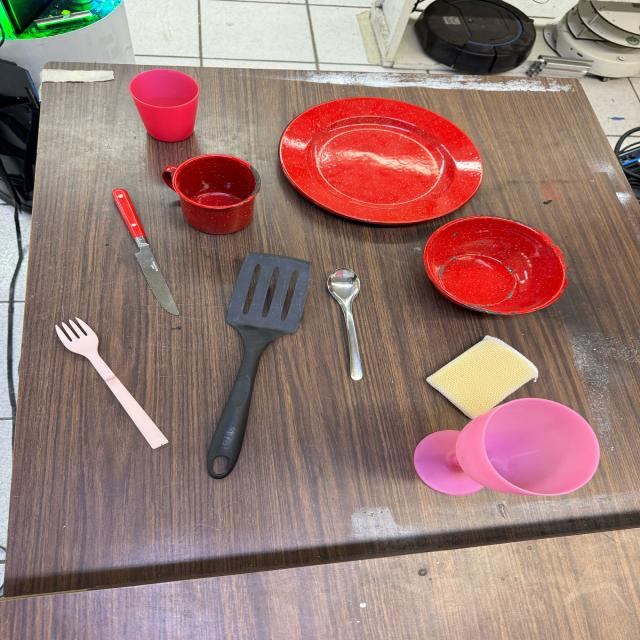cup: (162, 152, 260, 233)
fork: (52, 318, 170, 450)
glass: (129, 68, 199, 142)
knife: (110, 185, 183, 318)
plate: (277, 96, 489, 226)
spatula: (202, 251, 315, 482)
sponge: (424, 336, 539, 417)
spoon: (326, 268, 370, 382)
tazon: (424, 216, 568, 317)
wineglass: (415, 394, 598, 498)
